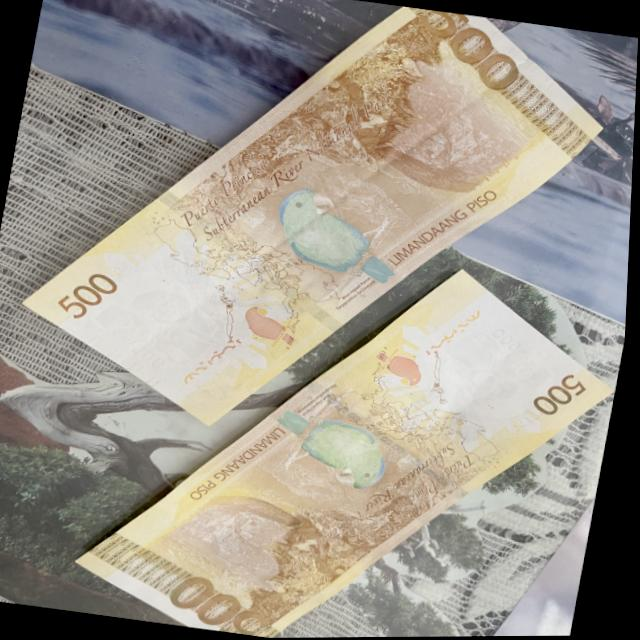500_big_parrot: (268, 184, 404, 286), (268, 406, 401, 491)
500_parrot_watermark: (236, 301, 303, 348), (370, 344, 434, 390)
value_watermark: (123, 338, 174, 373), (484, 323, 528, 358)
watermark: (89, 265, 237, 377), (422, 317, 567, 419)
